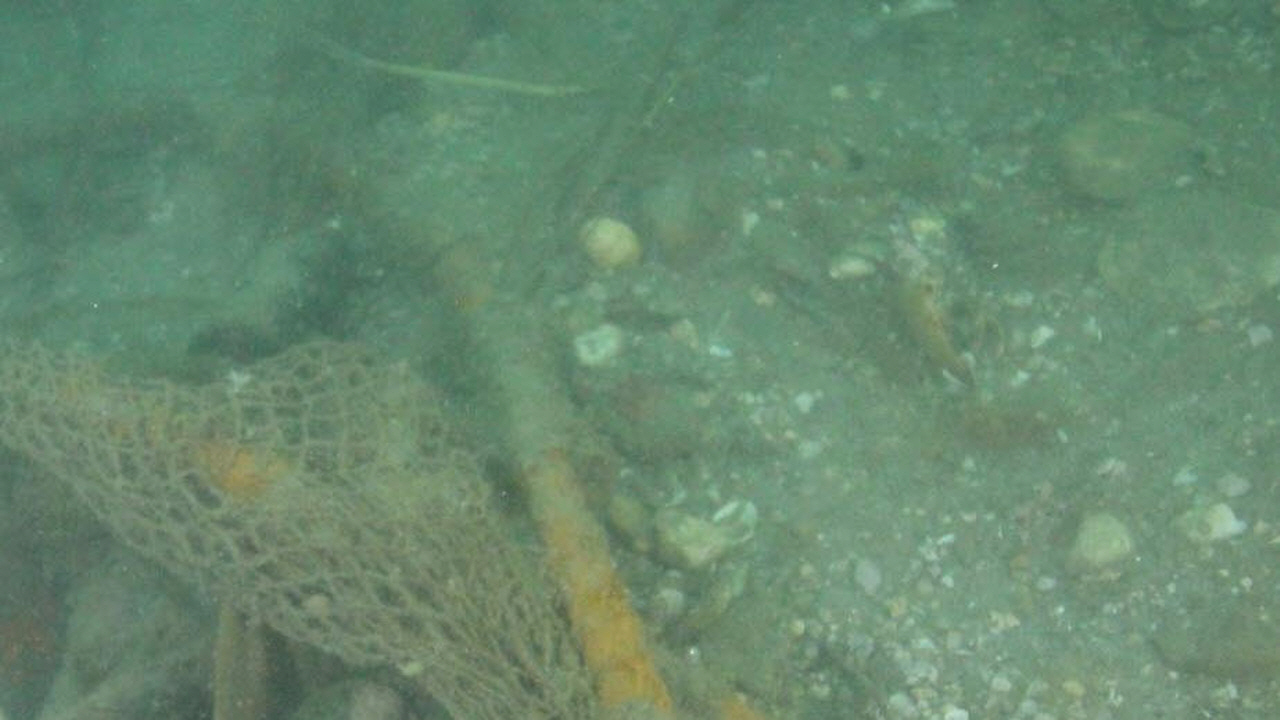fish net: (0, 338, 602, 720)
